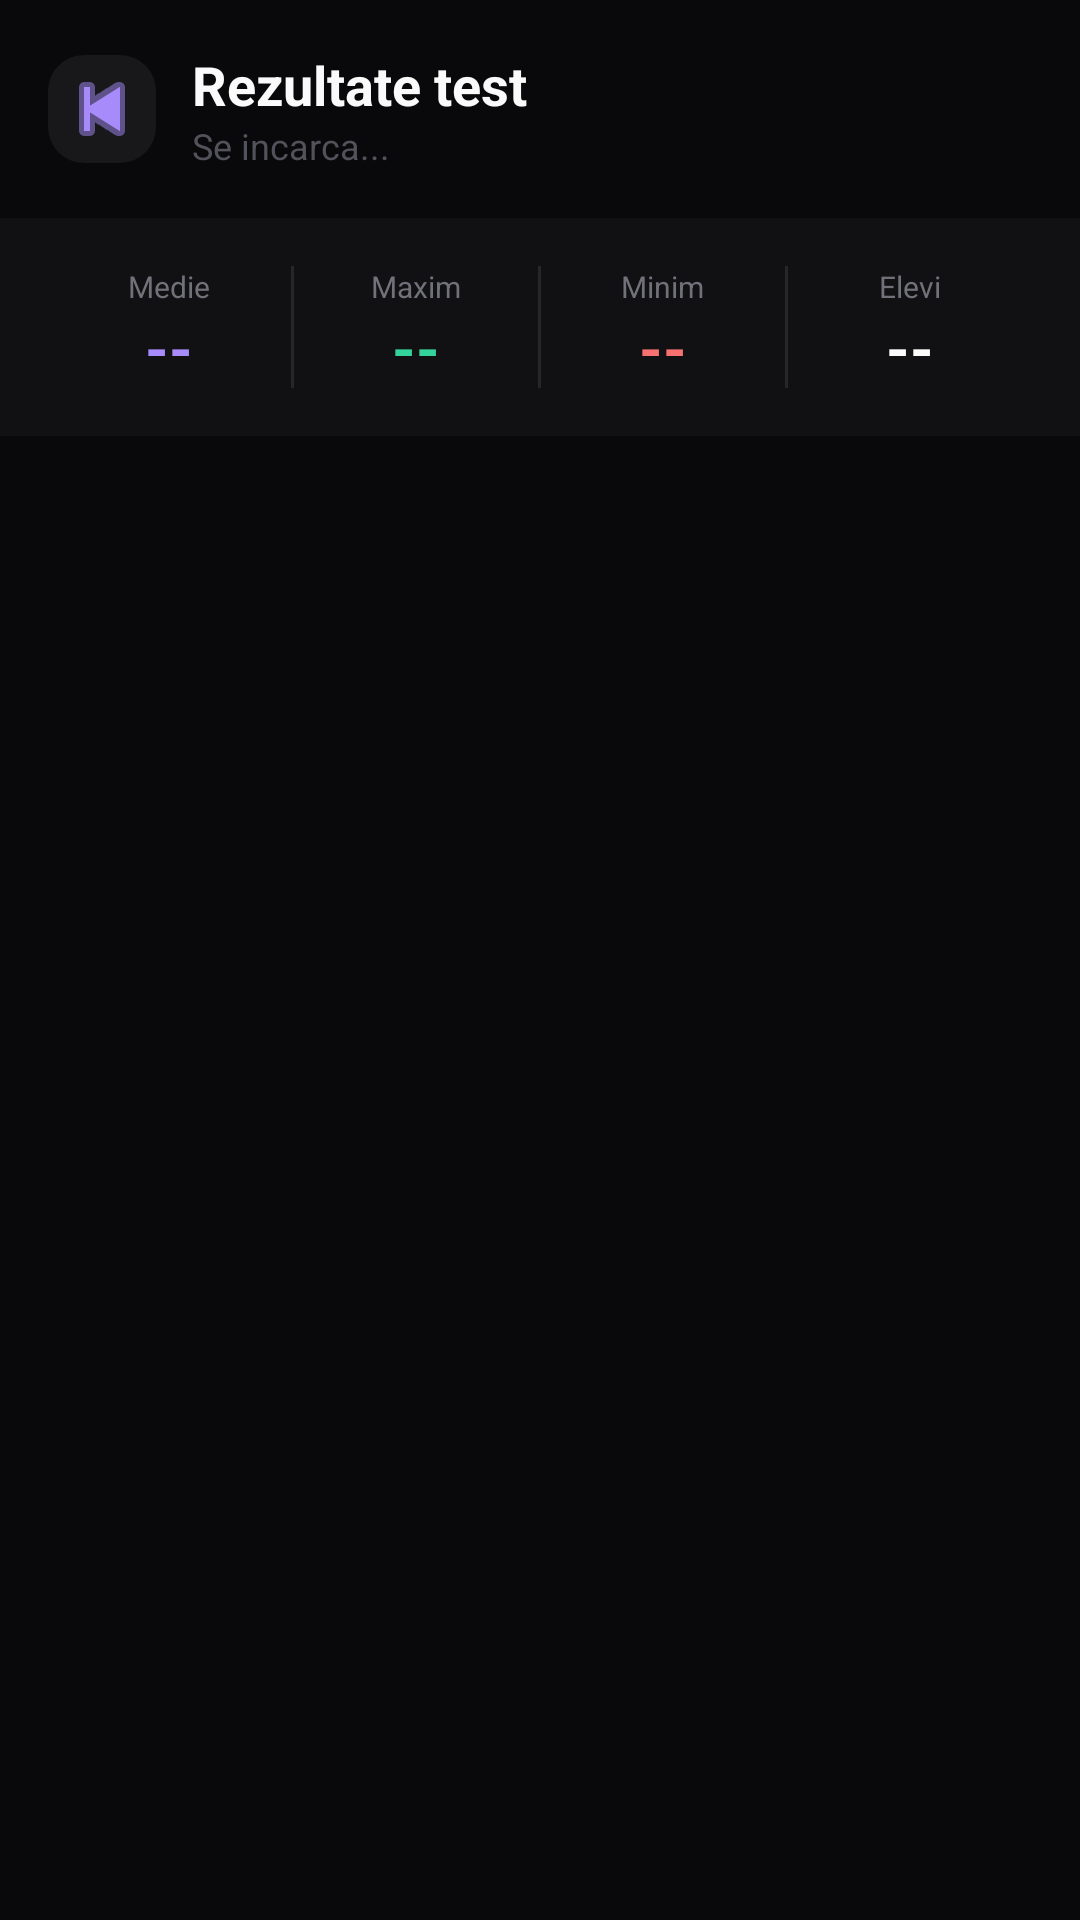

Point at icon controls on the screen. Image size 1080×1920, points as [x,y].
previous: [102,109]
